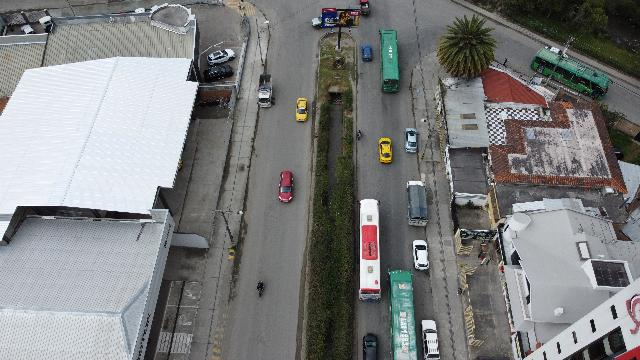Vehiculo: (406, 180, 428, 226), (420, 320, 440, 360), (207, 48, 235, 66), (362, 332, 380, 360), (278, 172, 294, 202), (203, 65, 233, 81), (413, 240, 429, 270), (378, 137, 392, 163), (404, 128, 418, 152), (258, 86, 272, 108), (296, 98, 308, 122), (362, 45, 372, 61), (360, 1, 370, 16)
